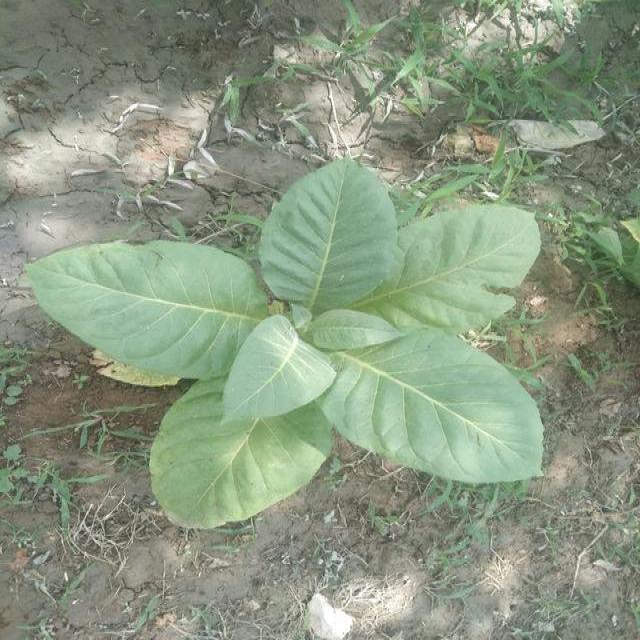crop: (32, 154, 555, 524)
